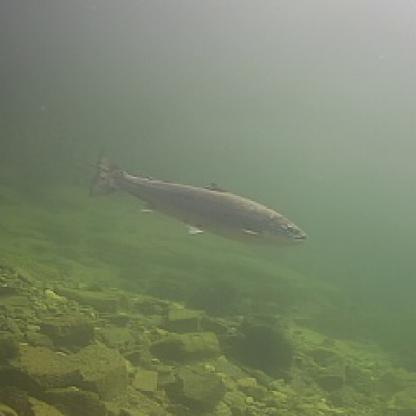salmon: (81, 135, 307, 246)
